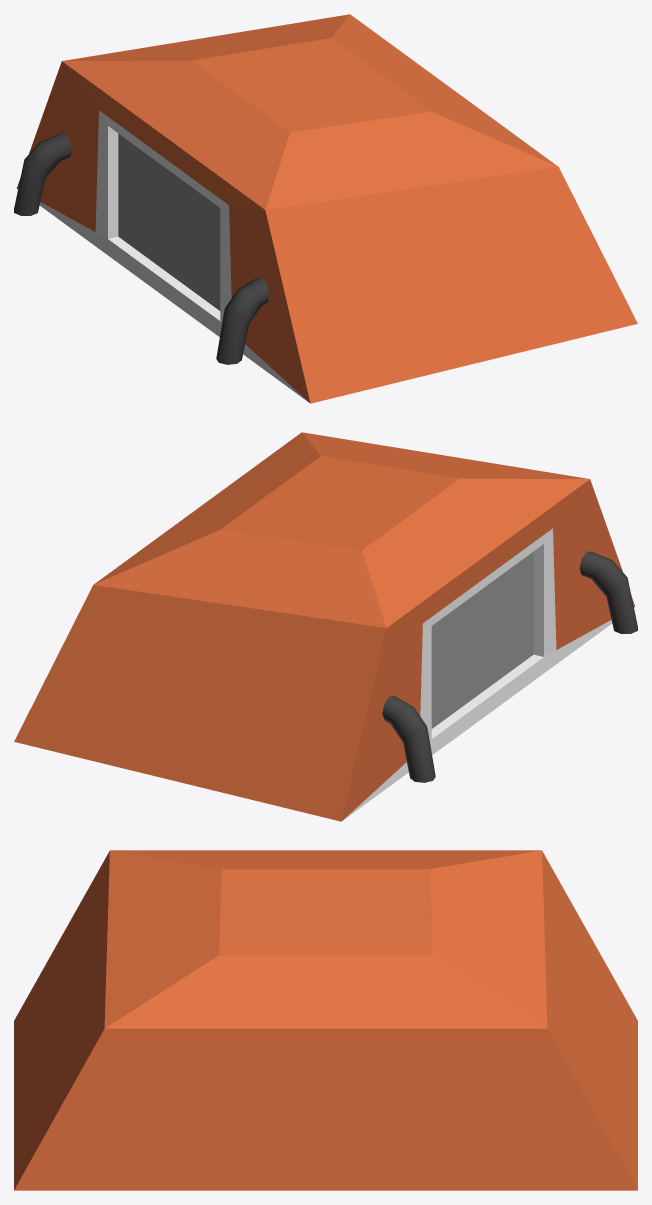
The model's file is Machine_5.fbx.
3 views of the same model, one above another, from view 1: azimuth 30°, elevation 25°; view 2: azimuth 150°, elevation 25°; view 3: azimuth 270°, elevation 25° (orthographic). The views are drawn at different scales.
Visible parts, largest first — view 1: Machine_5; view 2: Machine_5; view 3: Machine_5.
Part boxes in pixels (box(x1,y1,x2,y2)): Machine_5: box(14, 14, 637, 403); Machine_5: box(14, 432, 637, 821); Machine_5: box(14, 850, 637, 1190).
Bounding box in the file's own units: 721 × 332 × 980.
